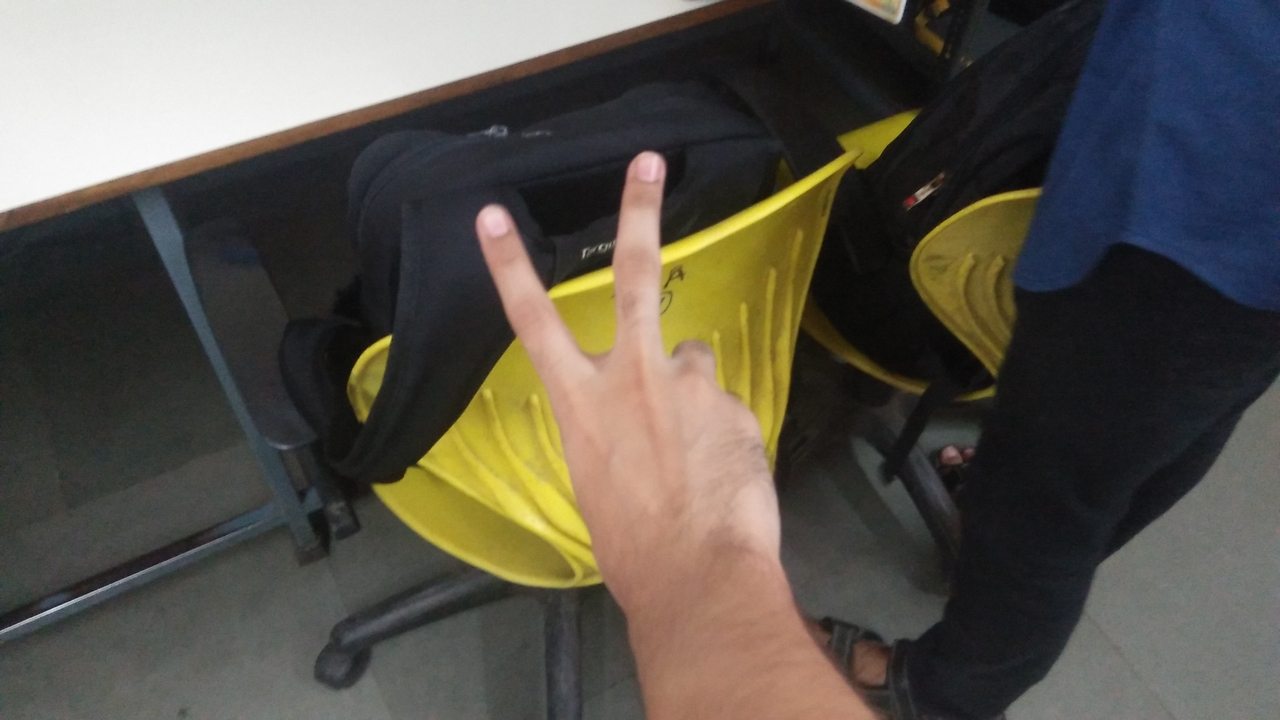fingertip: (464, 192, 520, 256), (616, 140, 674, 194)
